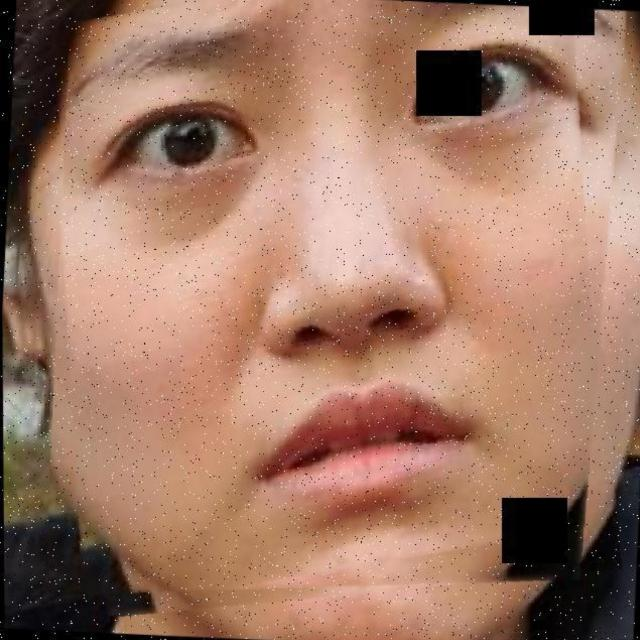Disgust: (70, 0, 608, 632)
